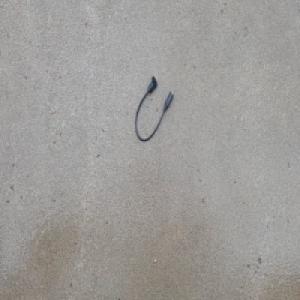Wire: (134, 74, 174, 142)
